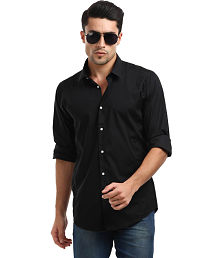shirt: (40, 50, 187, 240)
